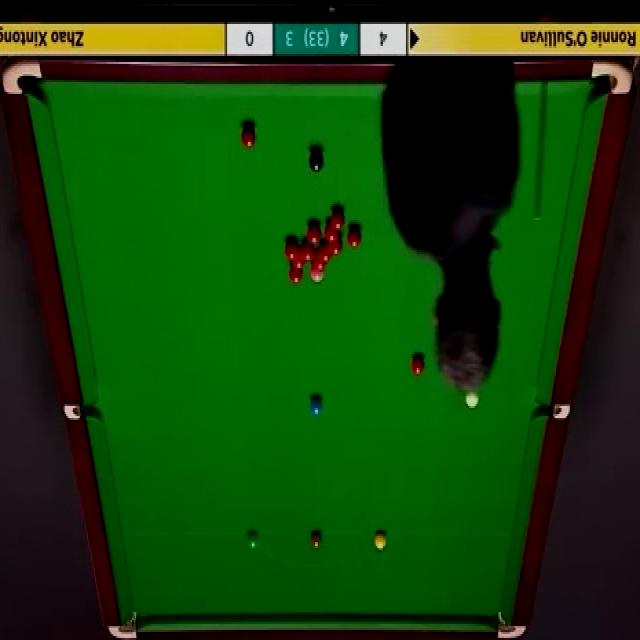pocket: (1, 55, 45, 100), (589, 58, 633, 94), (495, 606, 531, 640), (110, 608, 139, 640), (67, 405, 103, 420), (540, 405, 574, 420)
